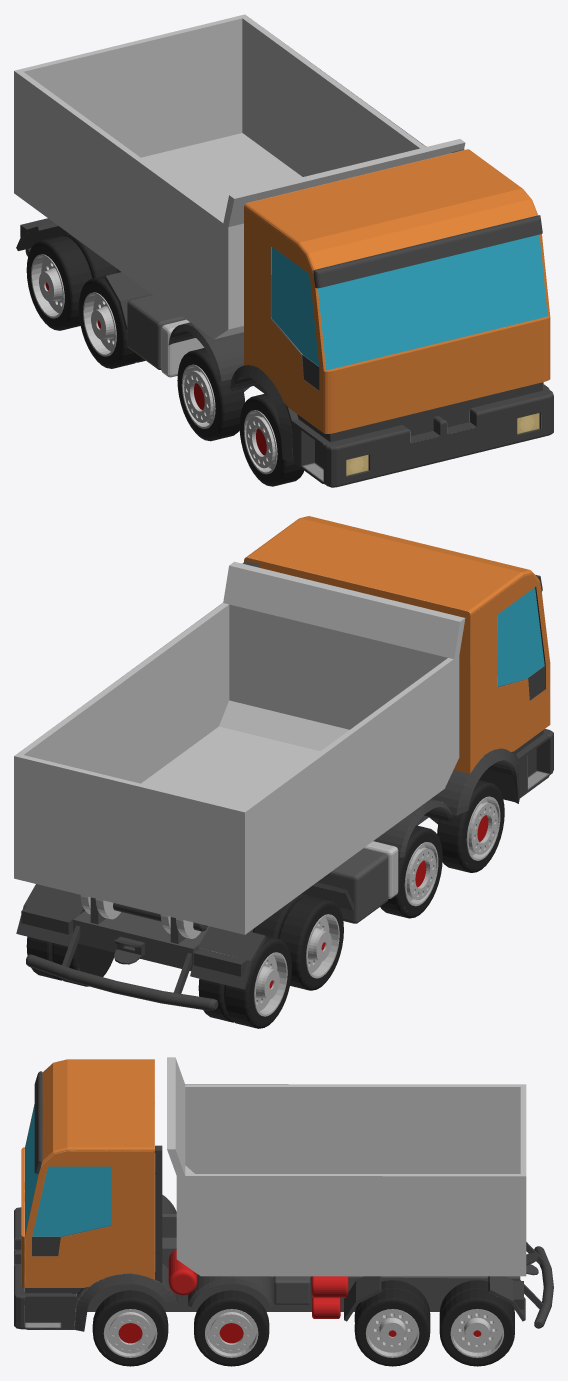
The model's file is truck.obj.
The picture shows the model from 3 angles, top to bottom: view 1: azimuth 30°, elevation 25°; view 2: azimuth 150°, elevation 25°; view 3: azimuth 270°, elevation 25°; orthographic projection. The views are drawn at different scales.
Visible parts, largest first — view 1: frame:tipper, frame:cab, window:cab, frame:bumper, nWheel:backRight.001, sWheel:frontRight.001, frame:body, frame:misc, nWheel:backRight, sWheel:frontRight; view 2: frame:tipper, frame:cab, frame:body, nWheel:backRight, nWheel:backRight.001, frame:bumper, sWheel:frontRight, frame:misc, window:cab, sWheel:frontRight.001, nWheel:backLeft.001; view 3: frame:tipper, frame:cab, frame:body, window:cab, nWheel:backLeft, frame:bumper, nWheel:backLeft.001, sWheel:frontLeft, sWheel:frontLeft.001, frame:misc.
Boxes of the visible parts, left/top/right/bottom form: frame:tipper: left=14, top=14, right=465, bottom=339; frame:cab: left=244, top=149, right=550, bottom=433; window:cab: left=272, top=234, right=547, bottom=370; frame:bumper: left=230, top=365, right=553, bottom=487; nWheel:backRight.001: left=26, top=234, right=117, bottom=330; sWheel:frontRight.001: left=177, top=348, right=244, bottom=441; frame:body: left=16, top=218, right=266, bottom=393; frame:misc: left=127, top=294, right=204, bottom=377; nWheel:backRight: left=78, top=272, right=145, bottom=368; sWheel:frontRight: left=239, top=393, right=303, bottom=486; frame:tipper: left=14, top=561, right=465, bottom=938; frame:cab: left=242, top=516, right=550, bottom=773; frame:body: left=16, top=799, right=452, bottom=1010; nWheel:backRight: left=253, top=893, right=343, bottom=990; nWheel:backRight.001: left=198, top=936, right=291, bottom=1028; frame:bumper: left=431, top=729, right=553, bottom=815; sWheel:frontRight: left=437, top=780, right=504, bottom=872; frame:misc: left=317, top=841, right=398, bottom=923; window:cab: left=497, top=587, right=544, bottom=686; sWheel:frontRight.001: left=380, top=825, right=442, bottom=918; nWheel:backLeft.001: left=26, top=910, right=114, bottom=986; frame:tipper: left=167, top=1057, right=526, bottom=1276; frame:cab: left=21, top=1059, right=162, bottom=1287; frame:body: left=87, top=1214, right=553, bottom=1328; window:cab: left=25, top=1105, right=111, bottom=1236; nWheel:backLeft: left=354, top=1280, right=430, bottom=1366; frame:bumper: left=14, top=1195, right=177, bottom=1331; nWheel:backLeft.001: left=439, top=1280, right=514, bottom=1366; sWheel:frontLeft: left=92, top=1290, right=168, bottom=1366; sWheel:frontLeft.001: left=194, top=1290, right=269, bottom=1366; frame:misc: left=168, top=1249, right=348, bottom=1318.
Size of the model in its own units: 1.86 by 2.03 by 4.52.
